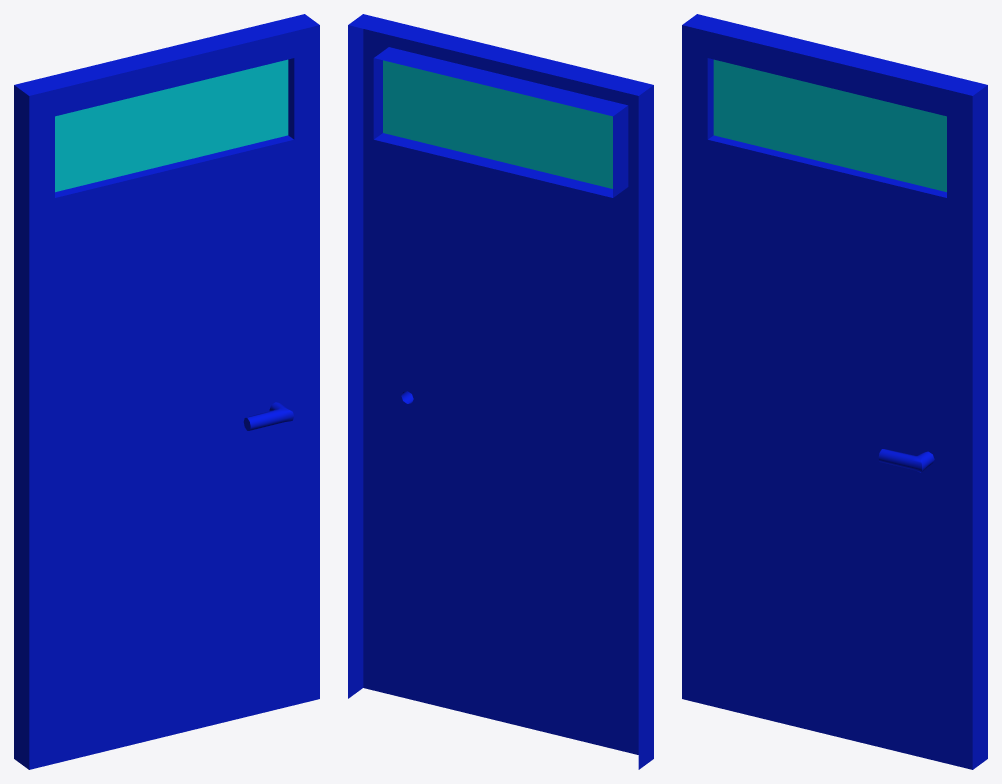
Rendered from Deur Closed.fbx.
3 renders of one model, left to right at view 1: azimuth 30°, elevation 25°; view 2: azimuth 150°, elevation 25°; view 3: azimuth 330°, elevation 25°, orthographic.
Visible parts, largest first — view 1: Deur(Zonderraam), Deur(Zonderraam)TopRaam; view 2: Deur(Zonderraam), Deur(Zonderraam)TopRaam; view 3: Deur(Zonderraam), Deur(Zonderraam)TopRaam.
Part boxes in pixels (x1=…): Deur(Zonderraam): x1=14, y1=14, x2=319, y2=769; Deur(Zonderraam)TopRaam: x1=55, y1=59, x2=288, y2=192; Deur(Zonderraam): x1=348, y1=14, x2=653, y2=769; Deur(Zonderraam)TopRaam: x1=383, y1=60, x2=612, y2=188; Deur(Zonderraam): x1=682, y1=14, x2=987, y2=769; Deur(Zonderraam)TopRaam: x1=713, y1=59, x2=946, y2=192.
Size of the model in its own units: 113 by 250 by 18.67.
